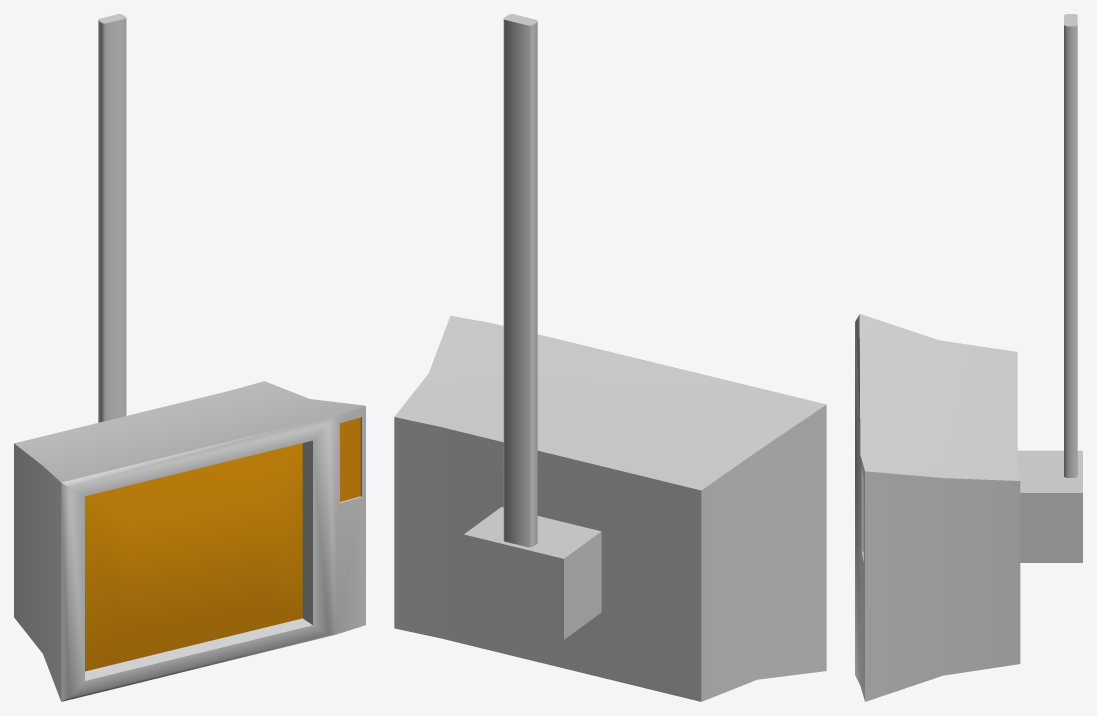
File: HangedMonitor.fbx
3 views of the same model, side by side, from view 1: azimuth 30°, elevation 25°; view 2: azimuth 150°, elevation 25°; view 3: azimuth 270°, elevation 25° (orthographic). The views are drawn at different scales.
Parts seen in each view (by area): view 1: TVHanged; view 2: TVHanged; view 3: TVHanged.
Boxes of the visible parts, x1=… form: TVHanged: x1=14, y1=14, x2=365, y2=701; TVHanged: x1=394, y1=14, x2=826, y2=701; TVHanged: x1=855, y1=14, x2=1082, y2=701.
Bounding box in the file's own units: 1.21 × 2.15 × 0.7381.
